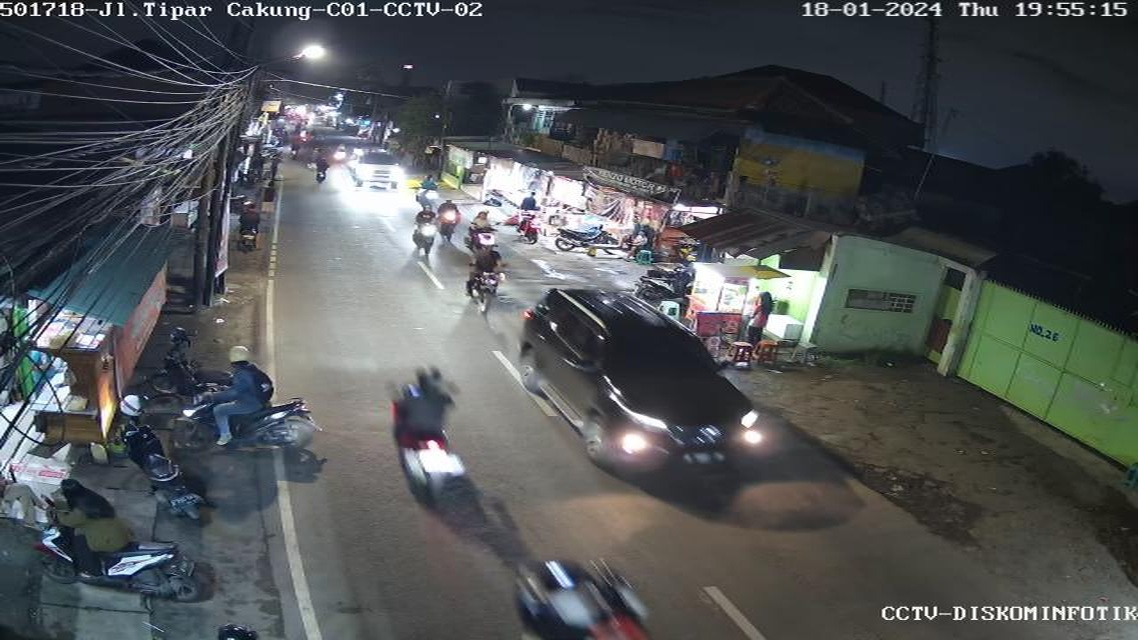Gerobak: (20, 294, 165, 450), (674, 246, 772, 365)
